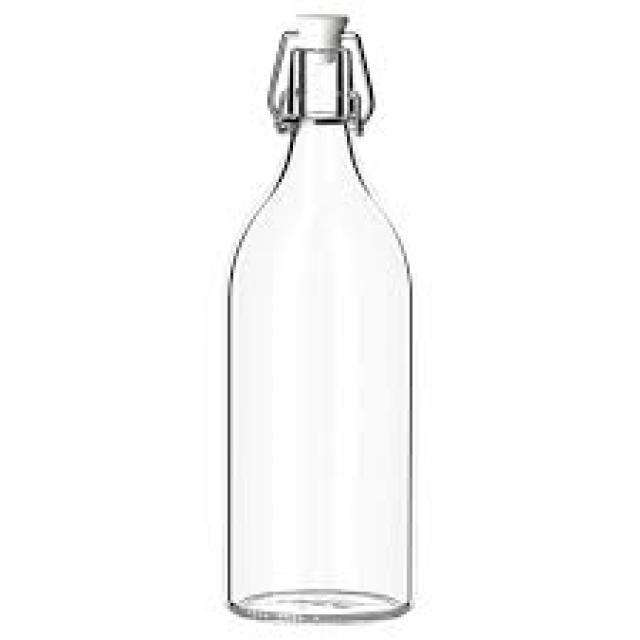Glass: (226, 52, 414, 626)
